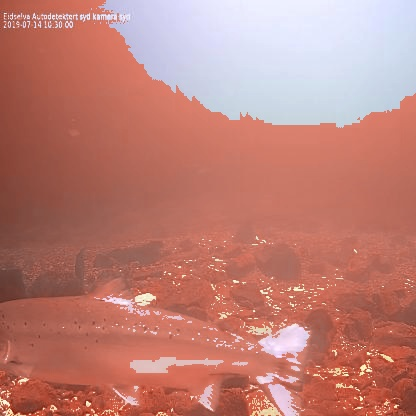salmon: (0, 272, 316, 416)
